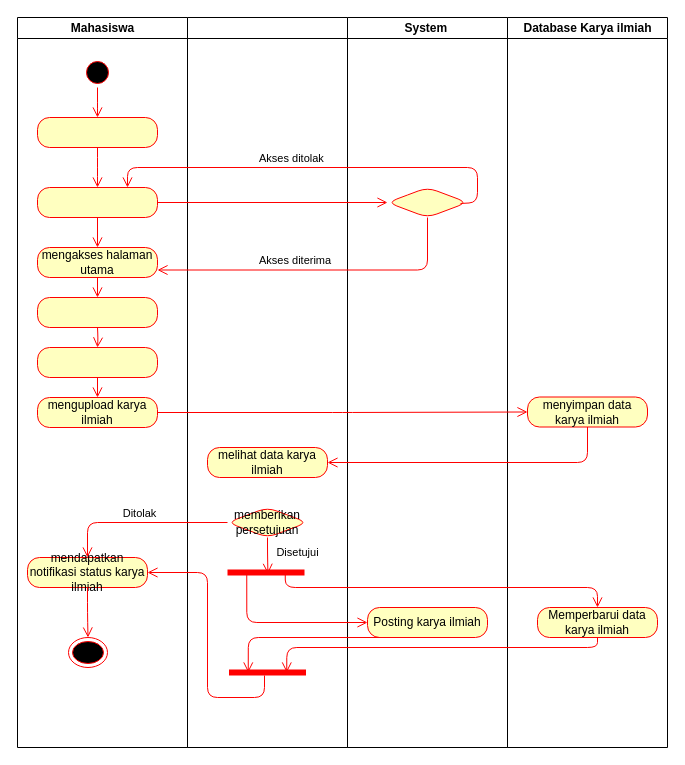
The diagram is 685 pixels wide and 765 high, and some of its shapes have lost their labels. Here are the shapes that lost their labels. From the top down, the box of each, then its label:
(36, 116, 158, 148): Mengakses halaman login
(36, 186, 158, 218): Mengisi username dan password
(386, 186, 468, 218): Validasi
(36, 296, 158, 328): mengakses halaman submit karya ilmiah
(36, 346, 158, 378): mengisi form karya ilmiah
(186, 16, 348, 748): Program Studi
